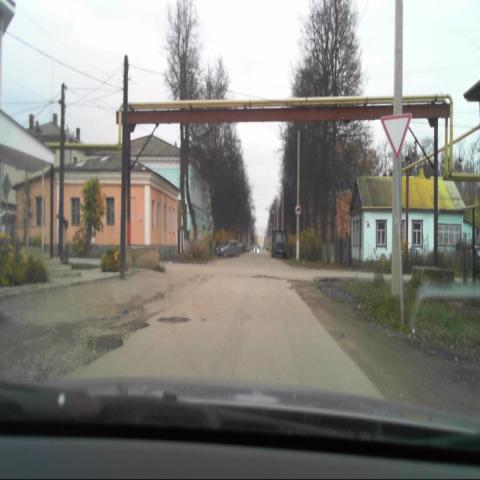2_4: (381, 114, 411, 155)
